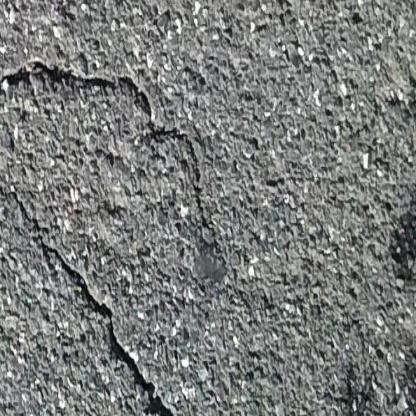Cracks: (0, 56, 218, 232), (37, 233, 182, 416)
